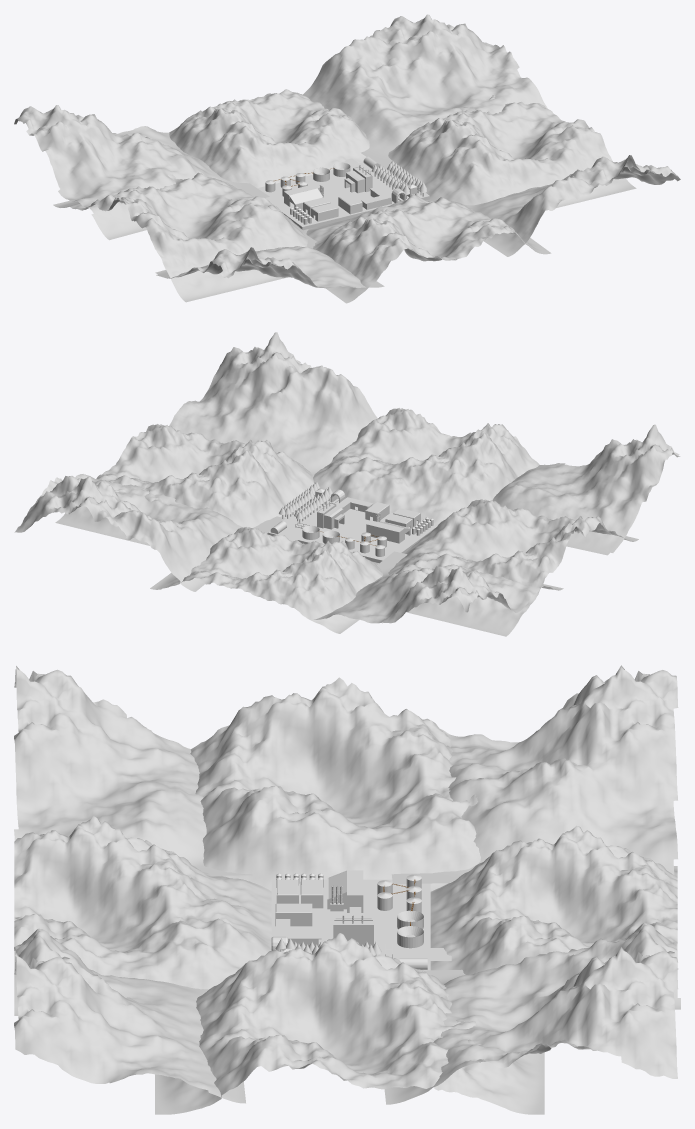
The model's file is Site_Industriel_fini (1).fbx.
3 views of the same model, one above another, from view 1: azimuth 30°, elevation 25°; view 2: azimuth 150°, elevation 25°; view 3: azimuth 270°, elevation 25° (orthographic). The views are drawn at different scales.
Visible parts, largest first — view 1: Landscape.004, Landscape.002, Landscape.003, Landscape.001, Landscape.005, Landscape, Landscape.007, Landscape.006, Plane, Torus.001, Cube.001; view 2: Landscape.007, Landscape, Landscape.002, Landscape.003, Landscape.001, Landscape.006, Landscape.004, Landscape.005, Plane, Torus.001, Cube.001; view 3: Landscape.003, Landscape.002, Landscape.005, Landscape, Landscape.004, Landscape.006, Landscape.001, Landscape.007, Plane, Torus.001, Cube.001, Cube.003.
Part boxes in pixels (bbox=[...]): Landscape.004: bbox=[303, 14, 547, 173]; Landscape.002: bbox=[388, 95, 636, 210]; Landscape.003: bbox=[53, 172, 308, 302]; Landscape.001: bbox=[169, 89, 369, 188]; Landscape.005: bbox=[14, 105, 269, 240]; Landscape: bbox=[306, 194, 551, 303]; Landscape.007: bbox=[464, 155, 680, 256]; Landscape.006: bbox=[155, 232, 384, 288]; Plane: bbox=[257, 162, 429, 230]; Torus.001: bbox=[284, 183, 323, 209]; Cube.001: bbox=[344, 165, 372, 193]; Landscape.007: bbox=[169, 332, 377, 476]; Landscape: bbox=[313, 408, 539, 524]; Landscape.002: bbox=[55, 424, 313, 545]; Landscape.003: bbox=[388, 499, 638, 636]; Landscape.001: bbox=[150, 527, 382, 633]; Landscape.006: bbox=[492, 424, 680, 555]; Landscape.004: bbox=[14, 474, 285, 591]; Landscape.005: bbox=[314, 551, 563, 623]; Plane: bbox=[267, 497, 438, 563]; Torus.001: bbox=[366, 513, 410, 543]; Cube.001: bbox=[317, 501, 344, 529]; Landscape.003: bbox=[190, 677, 480, 891]; Landscape.002: bbox=[155, 933, 544, 1114]; Landscape.005: bbox=[391, 665, 678, 884]; Landscape: bbox=[14, 816, 271, 1015]; Landscape.004: bbox=[384, 923, 678, 1104]; Landscape.006: bbox=[14, 666, 252, 875]; Landscape.001: bbox=[430, 825, 680, 1009]; Landscape.007: bbox=[14, 928, 245, 1103]; Plane: bbox=[271, 879, 430, 970]; Torus.001: bbox=[327, 870, 363, 912]; Cube.001: bbox=[333, 915, 373, 946]; Cube.003: bbox=[275, 903, 312, 926].
Size of the model in its own units: 14047 by 2317 by 11409.
